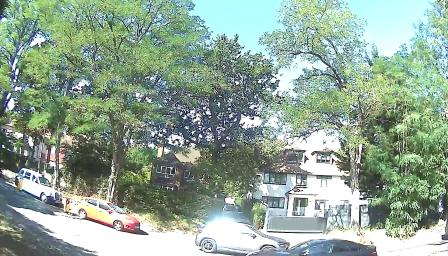Cars: (198, 212, 290, 250), (254, 231, 381, 256), (79, 193, 141, 237), (18, 168, 60, 206)
